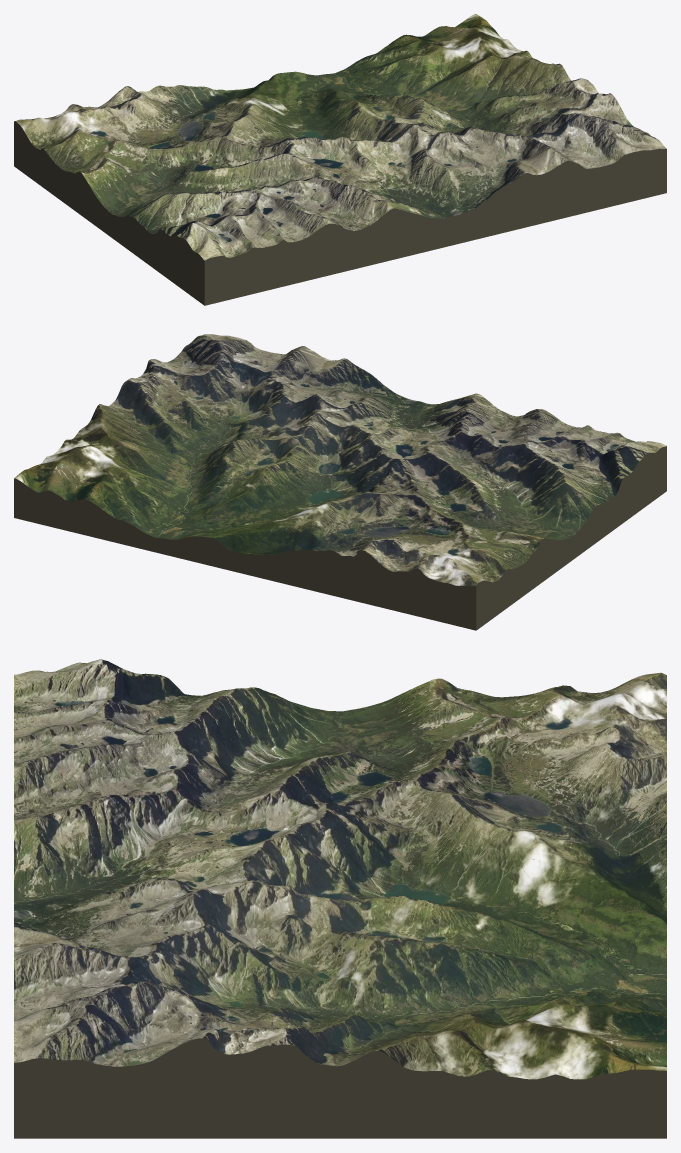
File: mountains.glb
3 views of the same model, one above another, from view 1: azimuth 30°, elevation 25°; view 2: azimuth 150°, elevation 25°; view 3: azimuth 270°, elevation 25° (orthographic). The views are drawn at different scales.
Parts seen in each view (by area): view 1: tatry_0; view 2: tatry_0; view 3: tatry_0.
Boxes of the visible parts, x1,y1,x2,y2 form: tatry_0: (14, 14, 666, 305); tatry_0: (14, 334, 666, 630); tatry_0: (14, 659, 666, 1138).
Bounding box in the file's own units: 3424 × 467 × 2446.
1 material, 1 textured.
